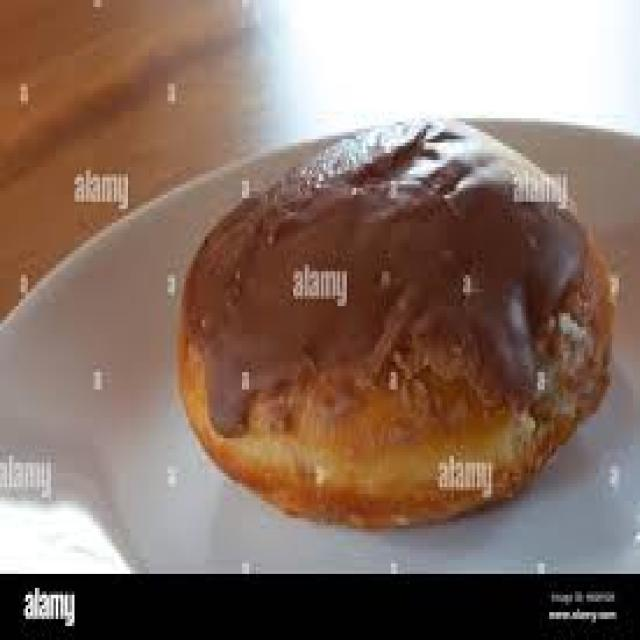Donut: (192, 129, 612, 500)
